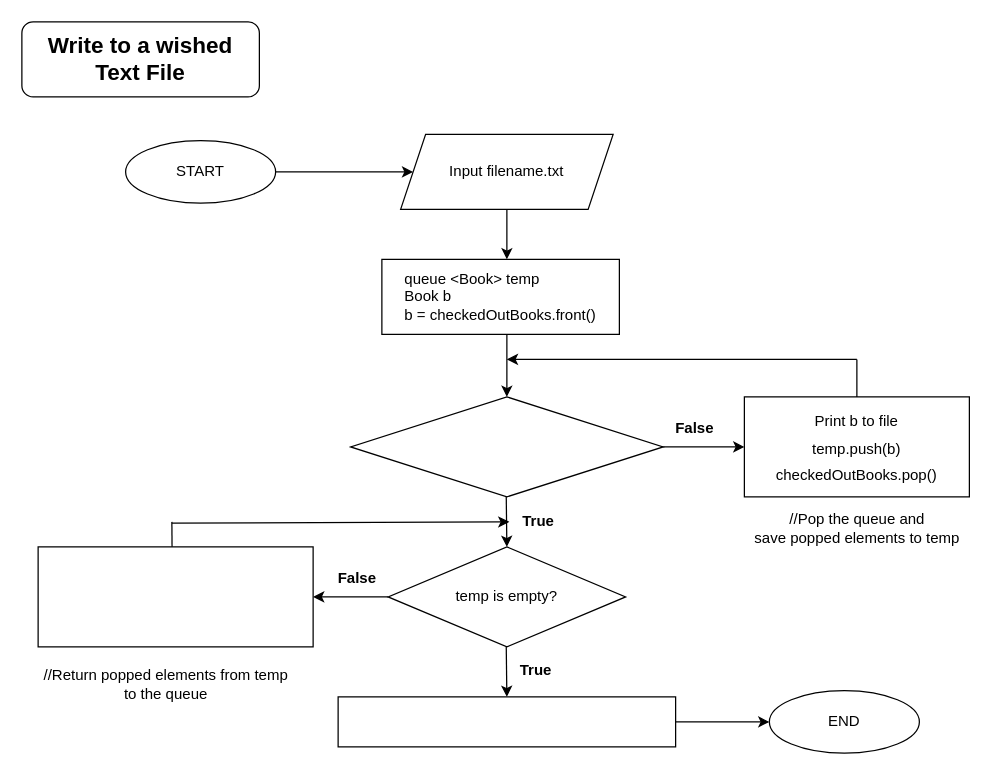
Some shapes in this 998 by 775 pixel diagram are drawn without their labels. The shapes that lost their labels are listed below. From the top down, each one's box as (x1, y1, x2, y2) in pixels, then its label:
(349, 396, 663, 497): checkedOutBooks is empty?
(37, 546, 313, 647): checkedOutBooks.push(temp.font()) temp.pop(b)
(337, 696, 676, 747): Print " Checked out books written to file. "
